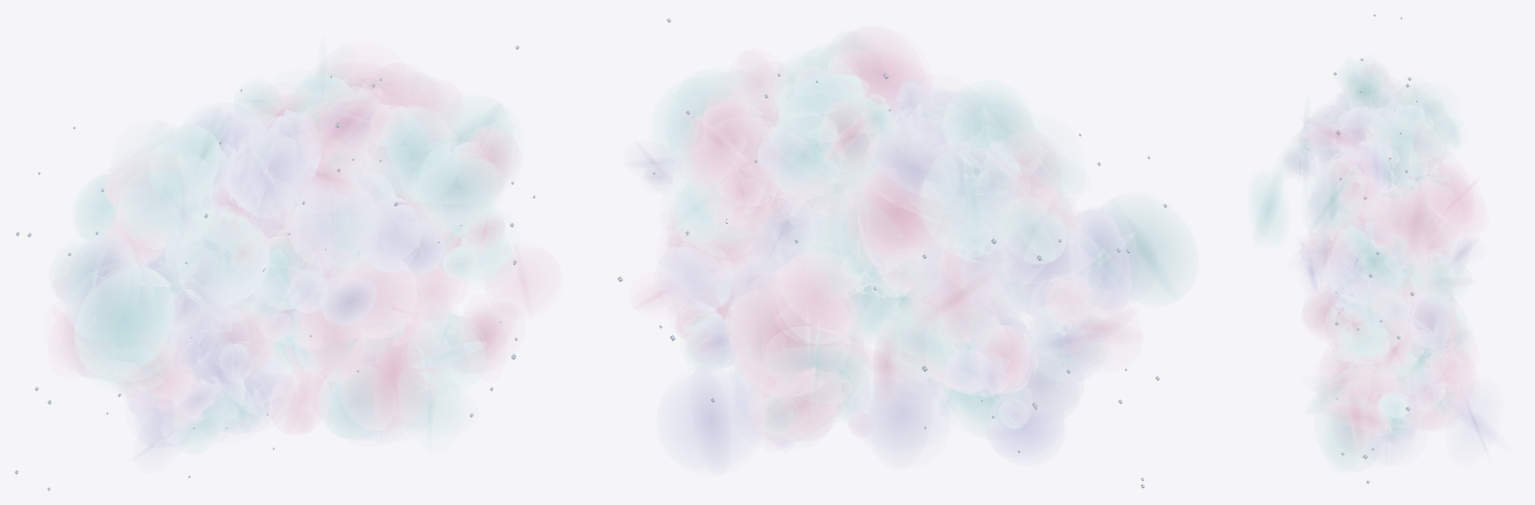
The picture shows the model from 3 angles, left to right: view 1: azimuth 30°, elevation 25°; view 2: azimuth 150°, elevation 25°; view 3: azimuth 270°, elevation 25°; orthographic projection. The views are drawn at different scales.
Size of the model in its own units: 5.83 by 4.67 by 3.17.
